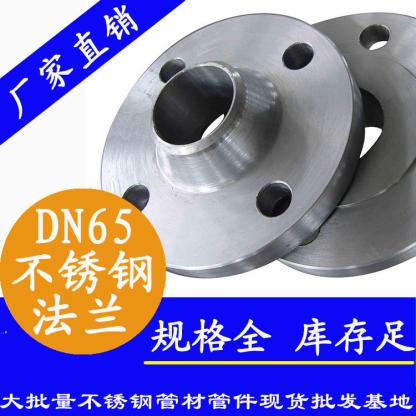FOD: (93, 10, 367, 284)
